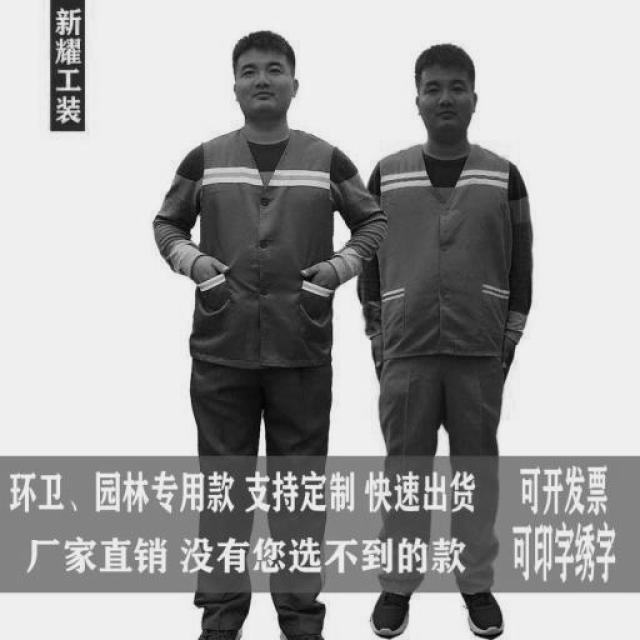face_nomask: (418, 73, 474, 133), (237, 59, 293, 118)
head_nohelmet: (225, 27, 305, 68), (408, 43, 482, 77)
person: (142, 15, 392, 640), (346, 32, 540, 640)
shoes: (367, 570, 432, 640), (458, 565, 514, 640)
vest: (186, 129, 344, 363), (370, 141, 518, 364)
